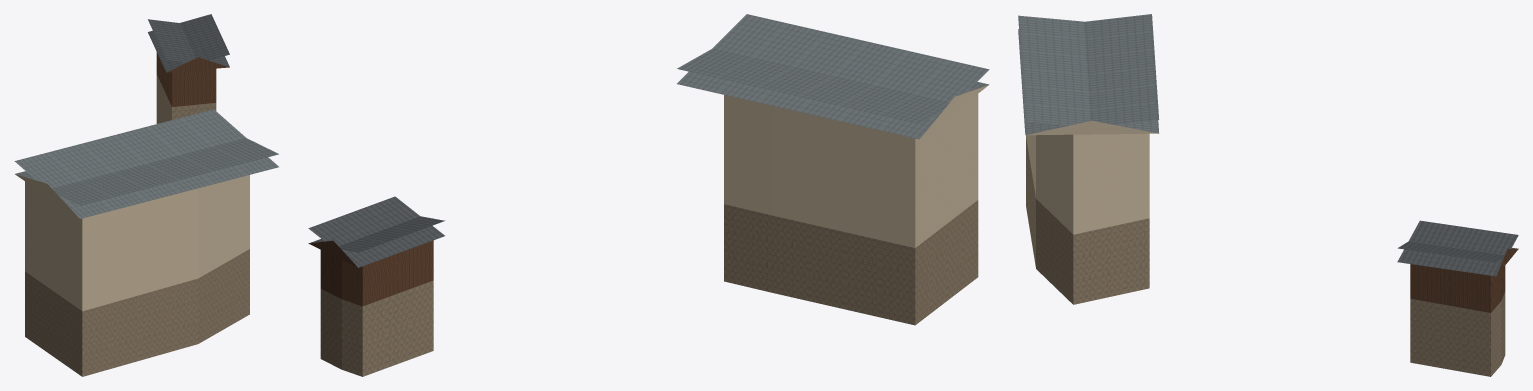
The model's file is bld_c30_-40_468.gltf.
The picture shows the model from 3 angles, left to right: view 1: azimuth 30°, elevation 25°; view 2: azimuth 150°, elevation 25°; view 3: azimuth 270°, elevation 25°; orthographic projection. The views are drawn at different scales.
Visible parts, largest first — view 1: bld_c30_-40_468; view 2: bld_c30_-40_468; view 3: bld_c30_-40_468.
Part boxes in pixels (x1,y1,x2,y2): bld_c30_-40_468: (14,14,278,376); bld_c30_-40_468: (308,14,989,376); bld_c30_-40_468: (1018,14,1518,376).
Bounding box in the file's own units: 29.12 × 13.6 × 32.98.
Materials: 7 (7 with a texture image).
